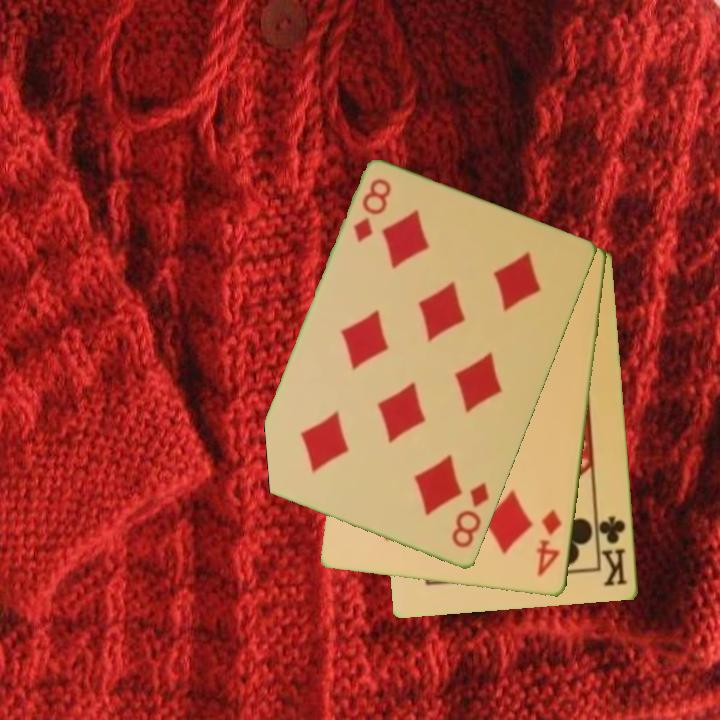4d: (533, 506, 565, 580)
8d: (448, 479, 492, 552), (350, 175, 395, 246)
Kc: (594, 509, 630, 589)
